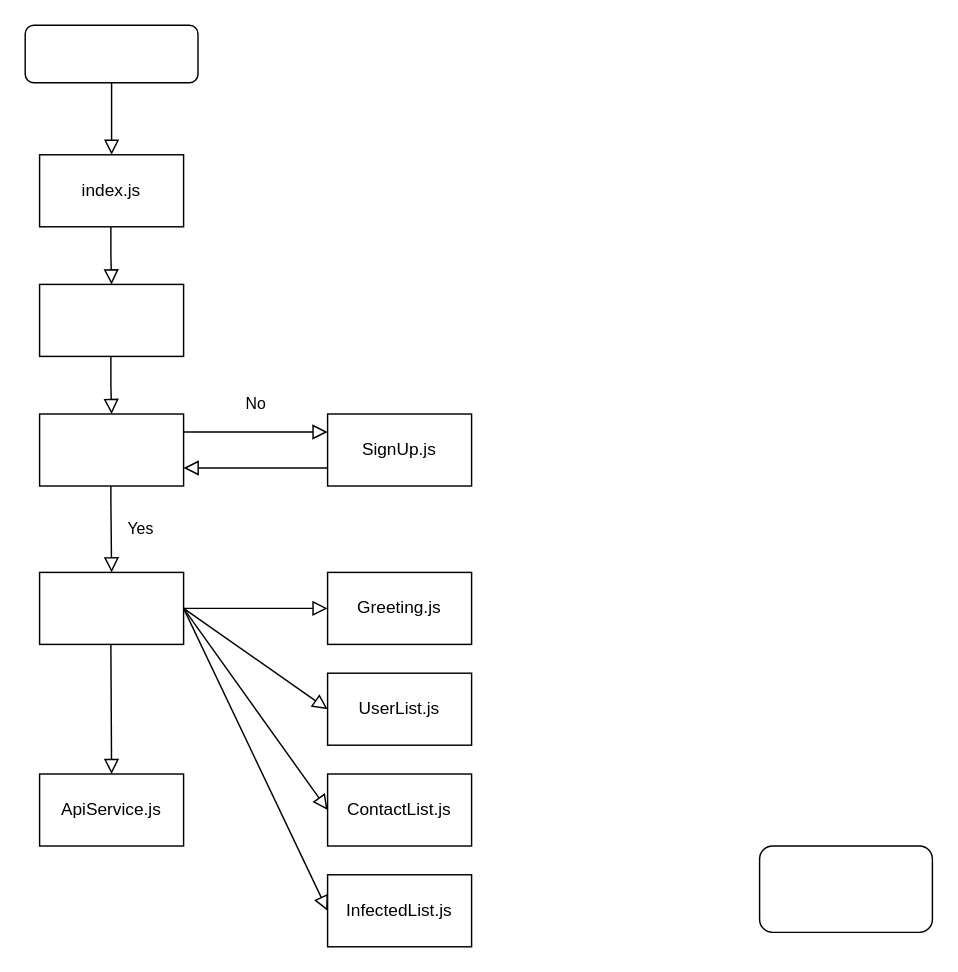
This 958x972 diagram has some shape labels left out. The shapes that lost their labels are listed below. From the top down, each one's centre as x and y in pixels, then its label:
point (111, 53): start
point (111, 319): AppRouter.js
point (111, 449): Login.js
point (111, 607): App.js
